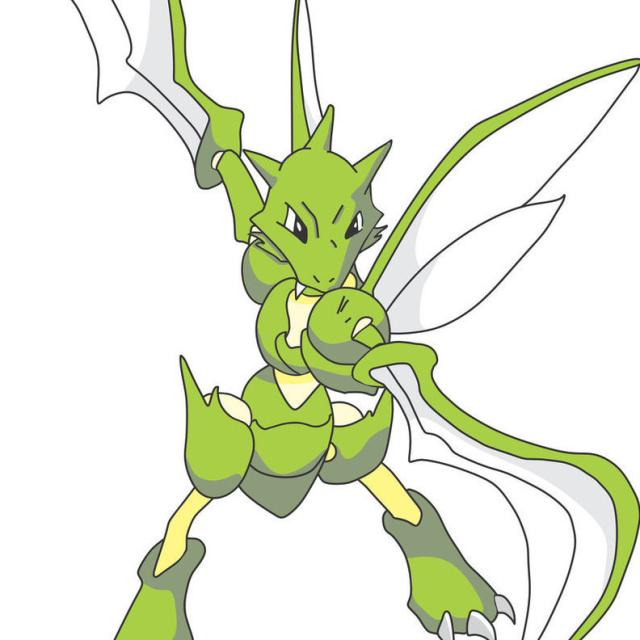Scyther: (112, 4, 523, 640)
